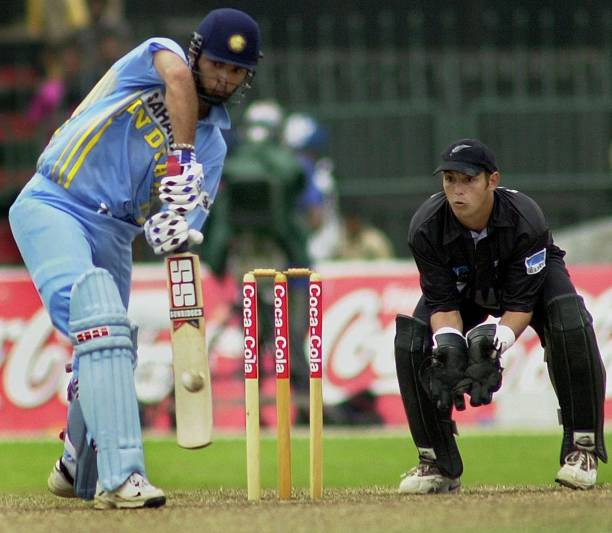bottom left: (203, 427, 224, 448)
bottom right: (167, 431, 188, 452)
top left: (188, 247, 208, 267)
top right: (156, 246, 178, 268)
